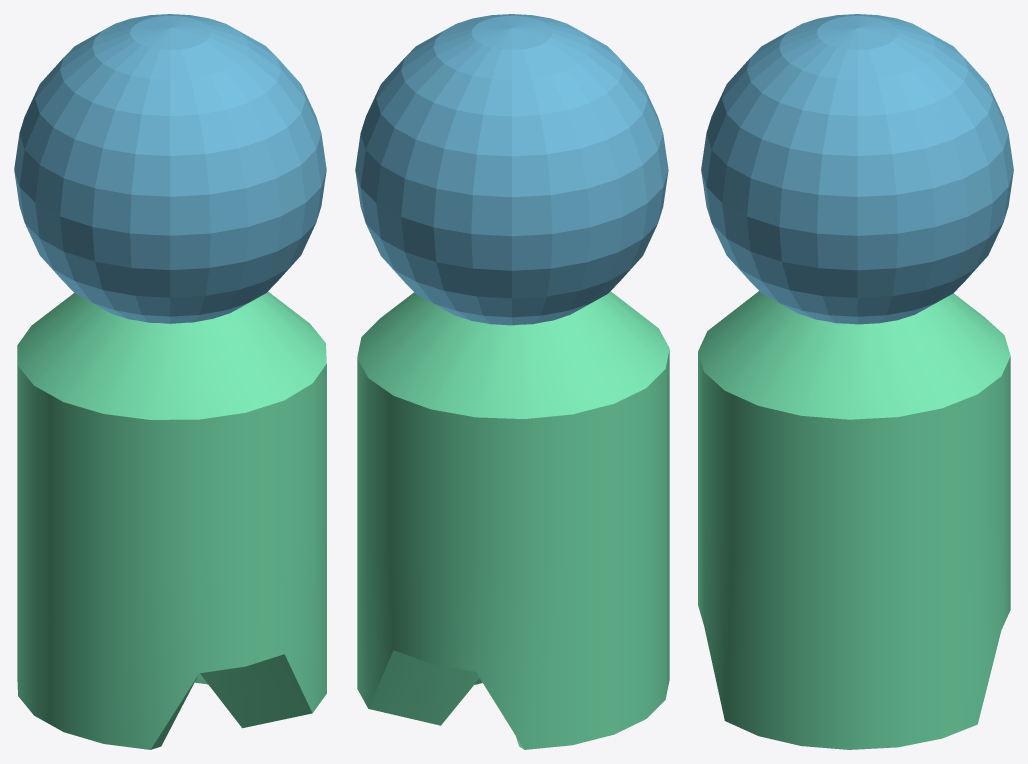
Rendered from green.gltf.
3 views of the same model, side by side, from view 1: azimuth 30°, elevation 25°; view 2: azimuth 150°, elevation 25°; view 3: azimuth 270°, elevation 25° (orthographic).
Parts seen in each view (by area): view 1: Цилиндр, Сфера; view 2: Цилиндр, Сфера; view 3: Цилиндр, Сфера.
Boxes of the visible parts, left/top/right/bottom form: Цилиндр: left=17, top=291, right=326, bottom=749; Сфера: left=14, top=14, right=326, bottom=323; Цилиндр: left=357, top=291, right=669, bottom=749; Сфера: left=355, top=14, right=668, bottom=325; Цилиндр: left=698, top=291, right=1010, bottom=749; Сфера: left=701, top=14, right=1013, bottom=324.
Size of the model in its own units: 1 by 2.42 by 1.01.
